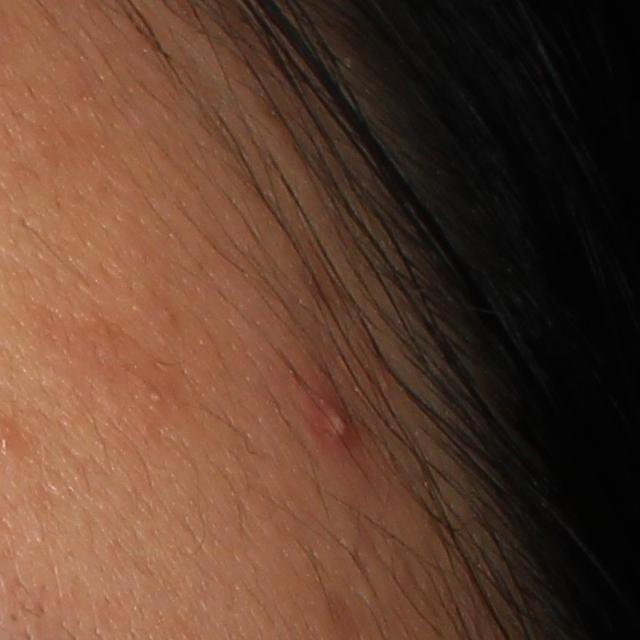pustule: (311, 379, 363, 447)
